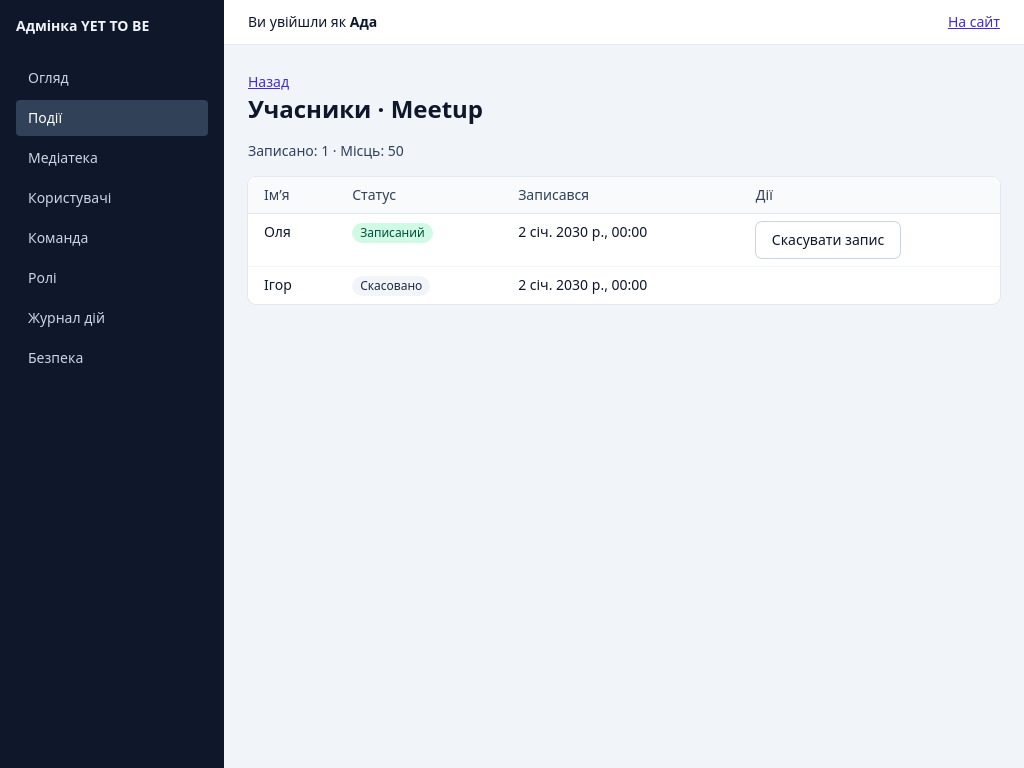
Test: учасники події › показує учасників і скасовує запис
Expected: the cell "Оля" is shown, 248,214 -> 336,266
Expected: the text "Записано: 1 · Місць: 50" is shown, 248,141 -> 404,160
Click the button "Скасувати запис": (828, 240) 756,222 -> 900,258
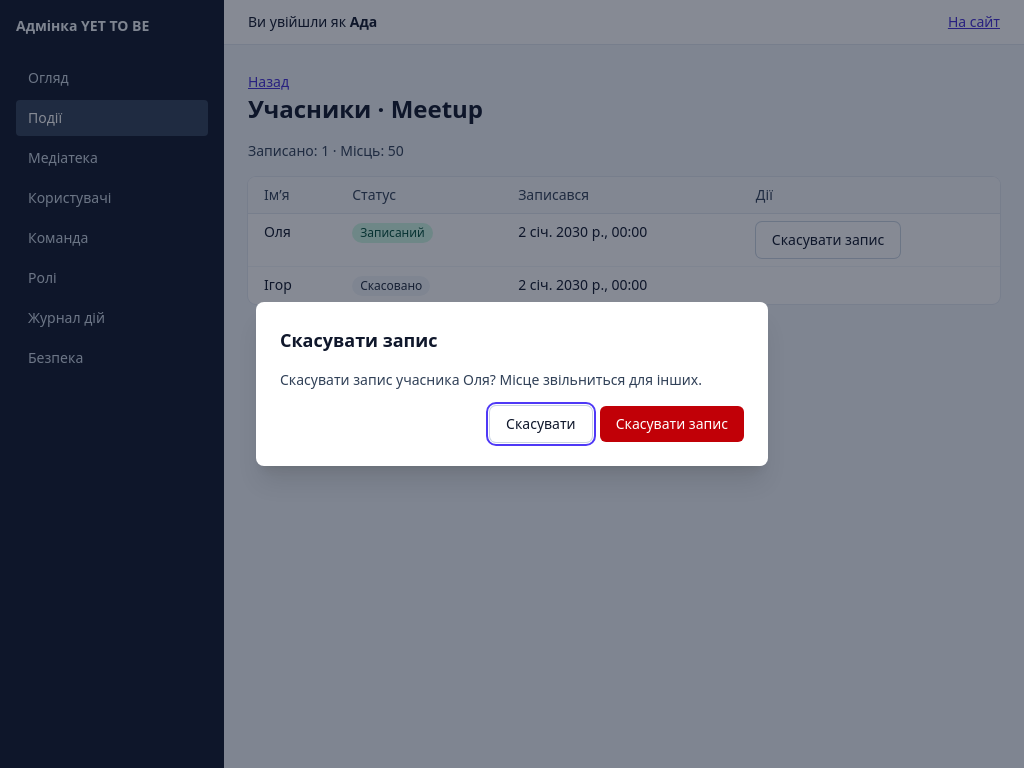
Click the button "Скасувати запис": (672, 424) 600,406 -> 744,442
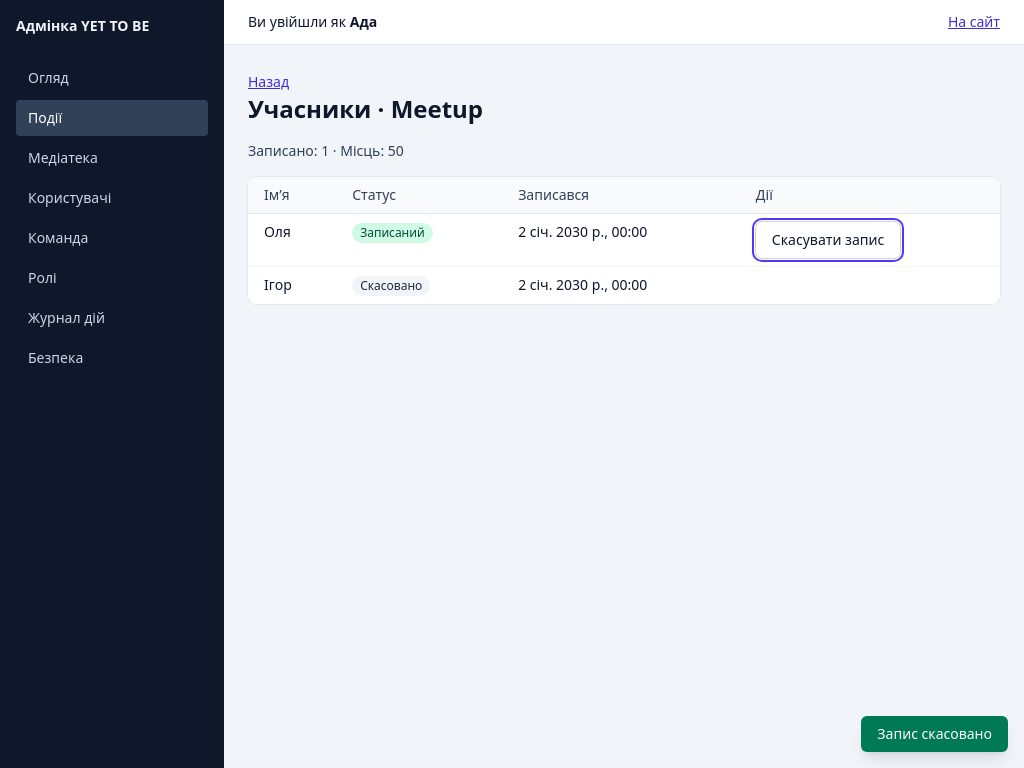
Now the text "Запис скасовано" is shown, box 861,716 -> 1008,752
